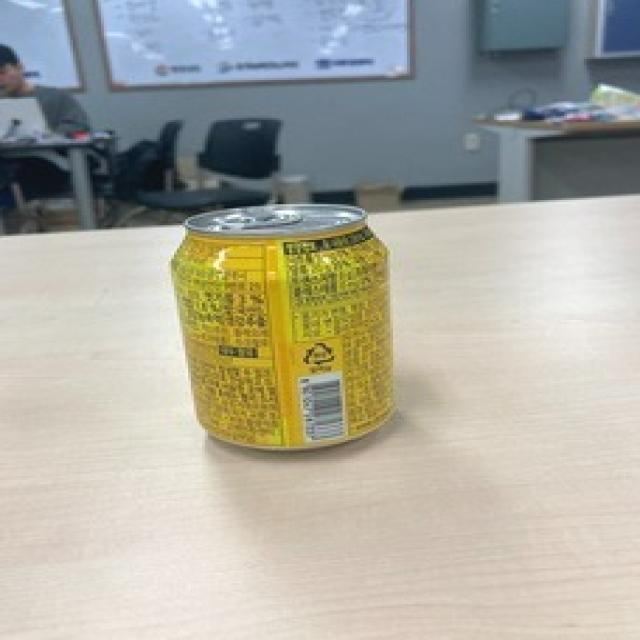can: (162, 192, 406, 460)
